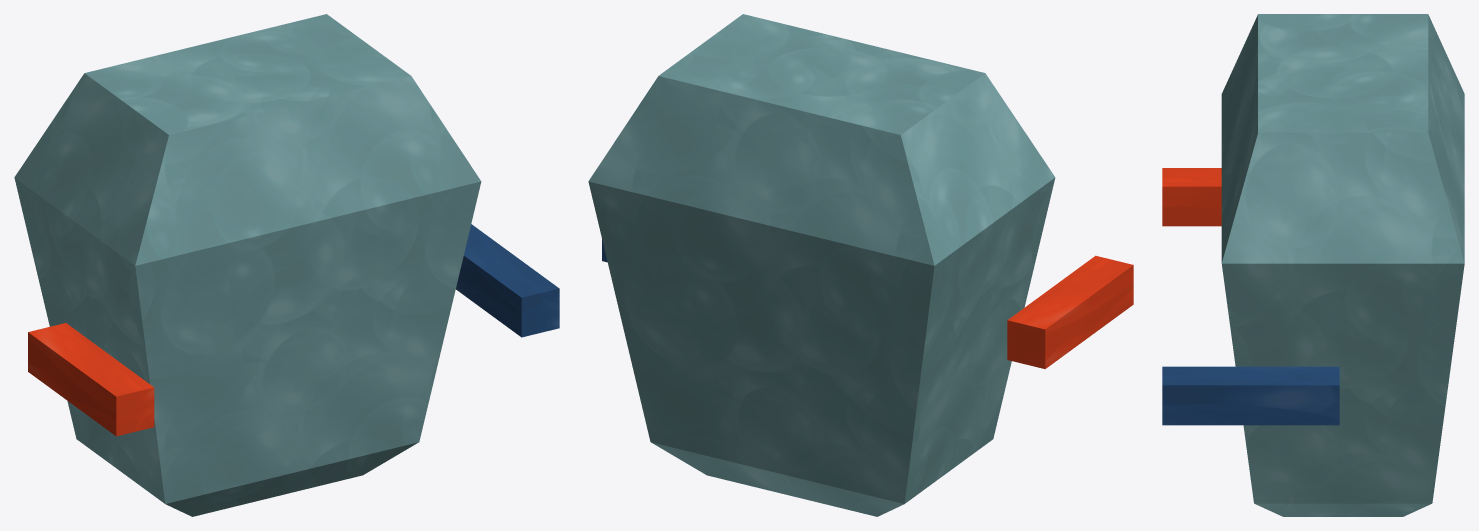
Rendered from Magnetic_Fuzzy.fbx.
The picture shows the model from 3 angles, left to right: view 1: azimuth 30°, elevation 25°; view 2: azimuth 150°, elevation 25°; view 3: azimuth 270°, elevation 25°; orthographic projection.
Parts seen in each view (by area): view 1: Body, R_Hand, L_Hand; view 2: Body, R_Hand; view 3: Body, L_Hand, R_Hand.
Boxes of the visible parts, box(x1,y1,x2,y2) form: Body: box(14, 14, 481, 516); R_Hand: box(28, 323, 154, 436); L_Hand: box(456, 224, 559, 337); Body: box(588, 14, 1055, 516); R_Hand: box(1007, 255, 1133, 368); Body: box(1221, 14, 1464, 516); L_Hand: box(1162, 366, 1339, 425); R_Hand: box(1162, 168, 1221, 226).
Size of the model in its own units: 4.98 by 4.29 by 2.93.
